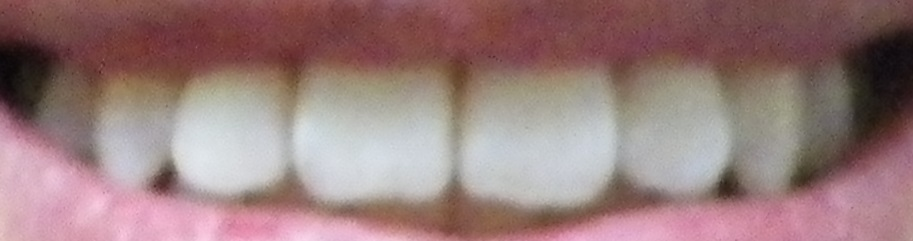boca: (41, 46, 861, 218)
